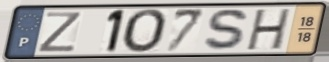1: (104, 8, 128, 55)
7: (166, 7, 207, 54)
H: (243, 7, 294, 53)
O: (121, 7, 170, 55)
S: (201, 8, 252, 53)
Z: (36, 11, 84, 54)
